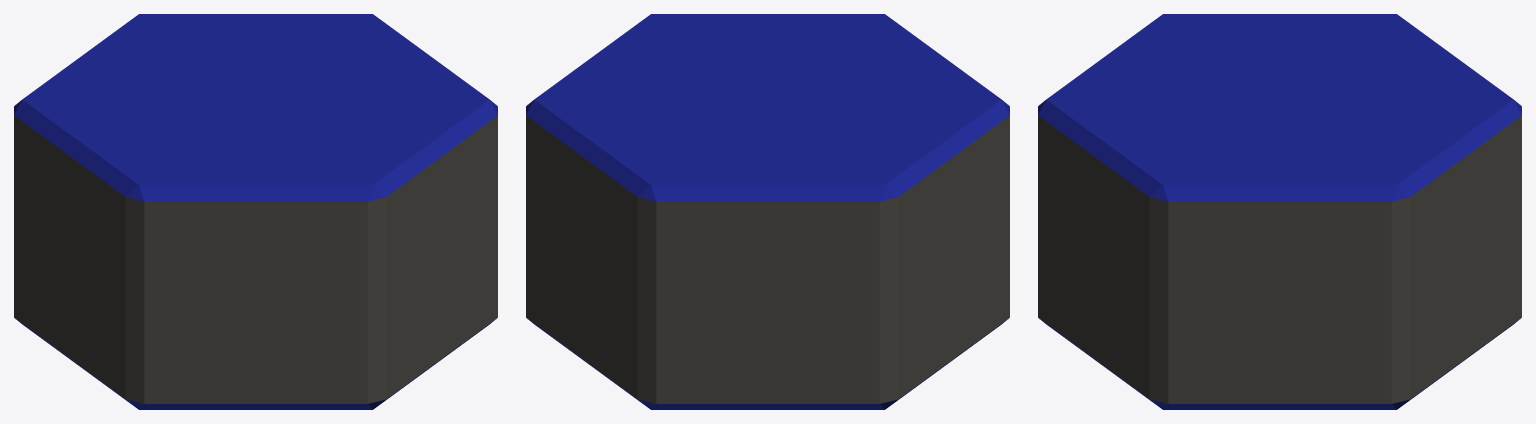
File: BaseHex_Blue.fbx
3 views of the same model, side by side, from view 1: azimuth 30°, elevation 25°; view 2: azimuth 150°, elevation 25°; view 3: azimuth 270°, elevation 25° (orthographic).
Visible parts, largest first — view 1: 02.Blue; view 2: 02.Blue; view 3: 02.Blue.
Part boxes in pixels (x1,y1,x2,y2): 02.Blue: (14,14,497,409); 02.Blue: (526,14,1009,409); 02.Blue: (1038,14,1521,409).
Bounding box in the file's own units: 173 × 100 × 195.
Materials: 1 (1 with a texture image).
